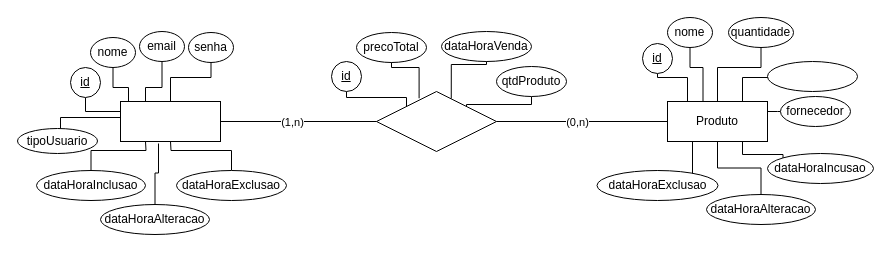
The diagram is 891 pixels wide and 253 high, and some of its shapes have lost their labels. Each missing label, with the centre of its shape:
"precoUnitario" goes at (x=812, y=76).
"Usuario" goes at (x=170, y=121).
"Vende" goes at (x=436, y=121).
